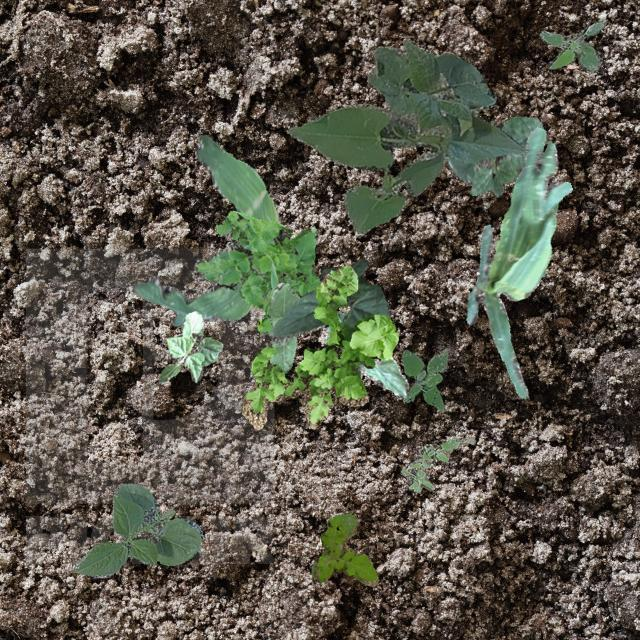crop: (286, 38, 522, 232), (466, 126, 572, 397), (132, 134, 280, 326), (72, 484, 202, 576), (268, 258, 390, 340), (444, 116, 542, 196), (324, 310, 408, 398), (158, 310, 222, 382), (268, 282, 298, 372)
weed: (240, 262, 398, 428), (192, 210, 320, 332), (312, 512, 378, 584), (400, 436, 474, 492), (539, 19, 605, 72), (400, 348, 448, 412)
